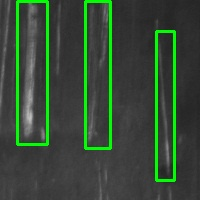scratches: (17, 1, 47, 144), (85, 1, 110, 148), (156, 31, 174, 180)
